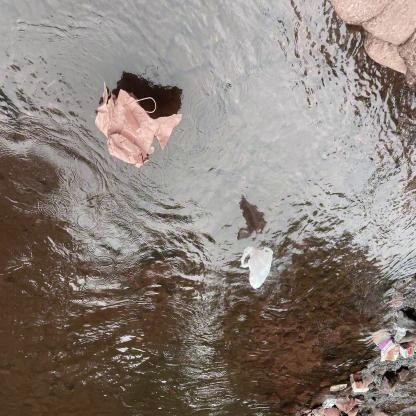Plastic: (238, 242, 276, 295), (321, 395, 338, 410), (393, 326, 407, 344), (392, 322, 408, 333), (374, 370, 384, 387)
Trash: (92, 77, 186, 174), (330, 382, 348, 392)
